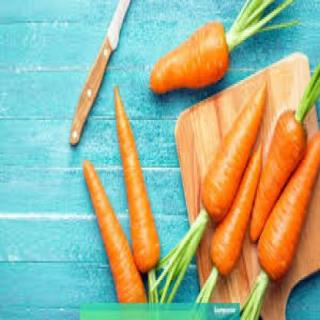Wortel: (81, 159, 151, 307), (258, 128, 320, 287), (201, 81, 269, 220), (113, 85, 162, 269), (250, 108, 307, 239), (210, 148, 263, 276), (150, 20, 231, 94)
